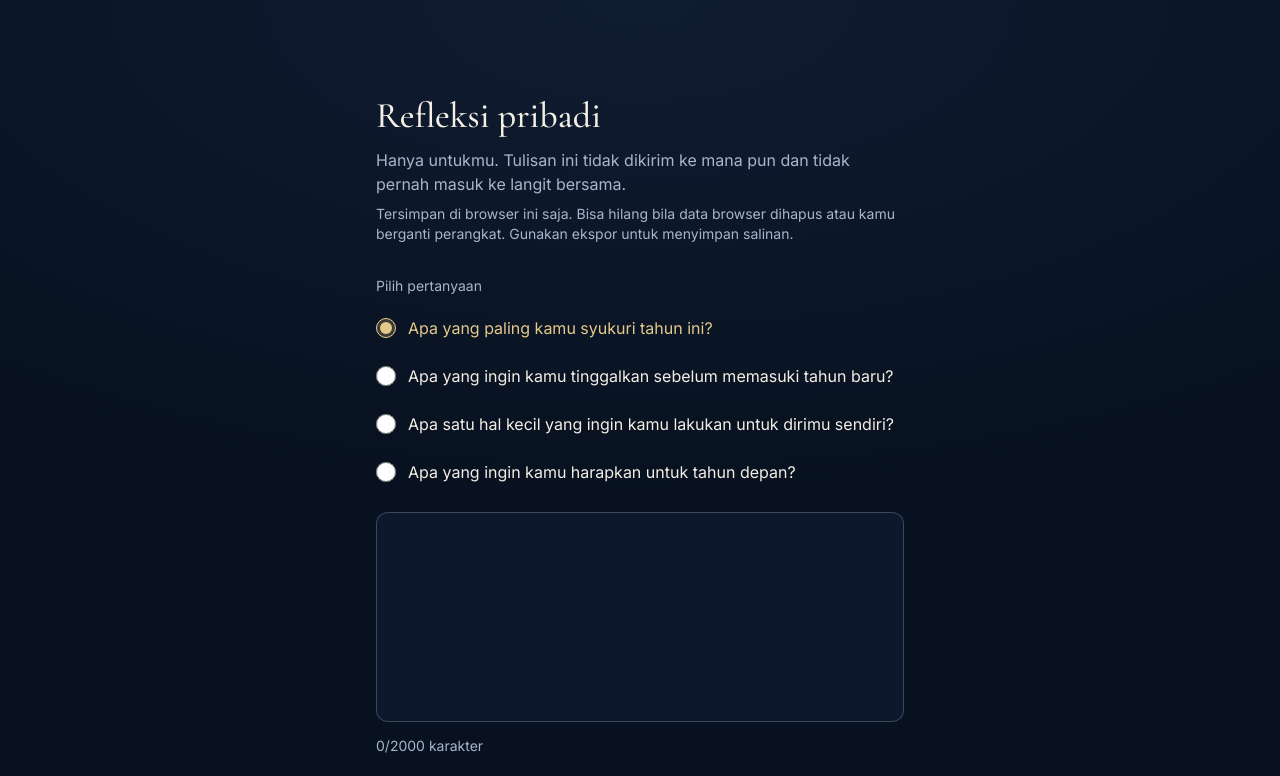
Scenario: ReflectionPad › menghapus tulisan
The image size is (1280, 776).
Type "Tulisan yang nanti akan dihapus." into the text box named "Tulisan refleksimu" at (640, 617), box [376,512,904,722]
(page scrolled)
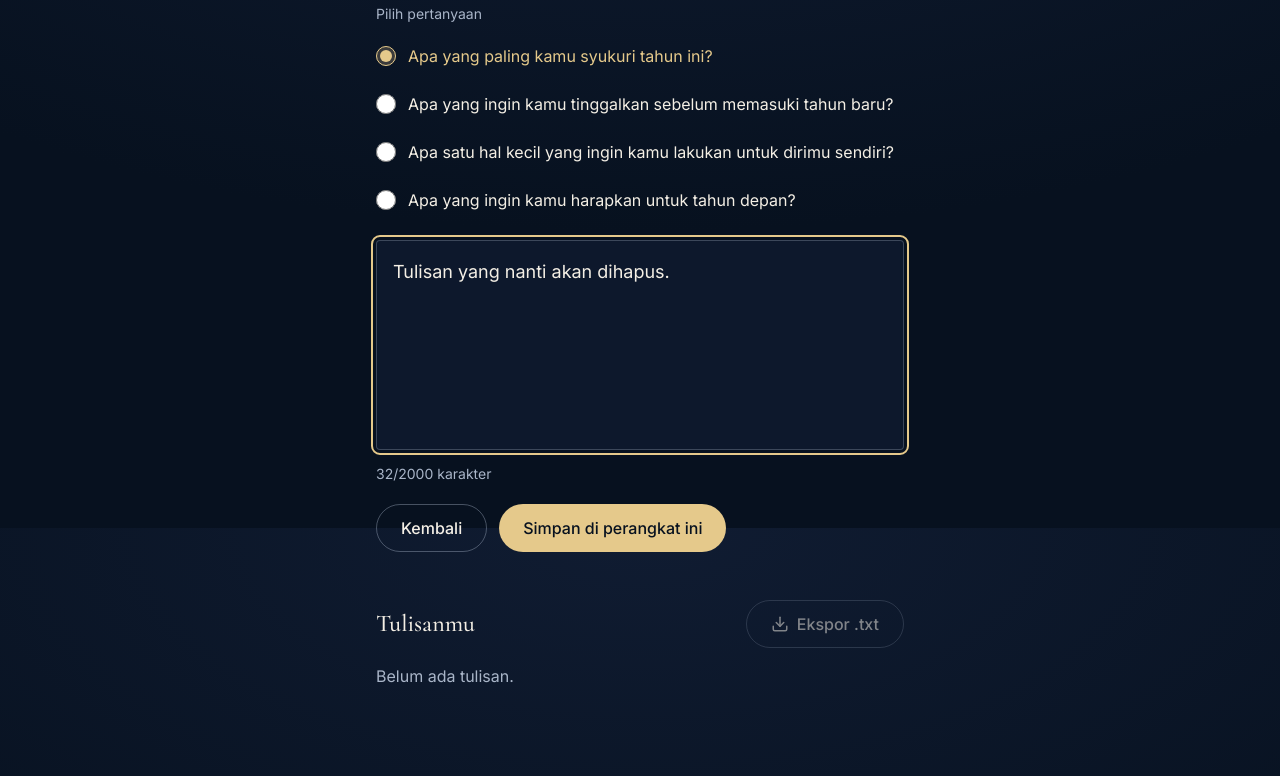
Click the button "Simpan di perangkat ini" at (613, 528), box [499,504,726,552]
(page scrolled)
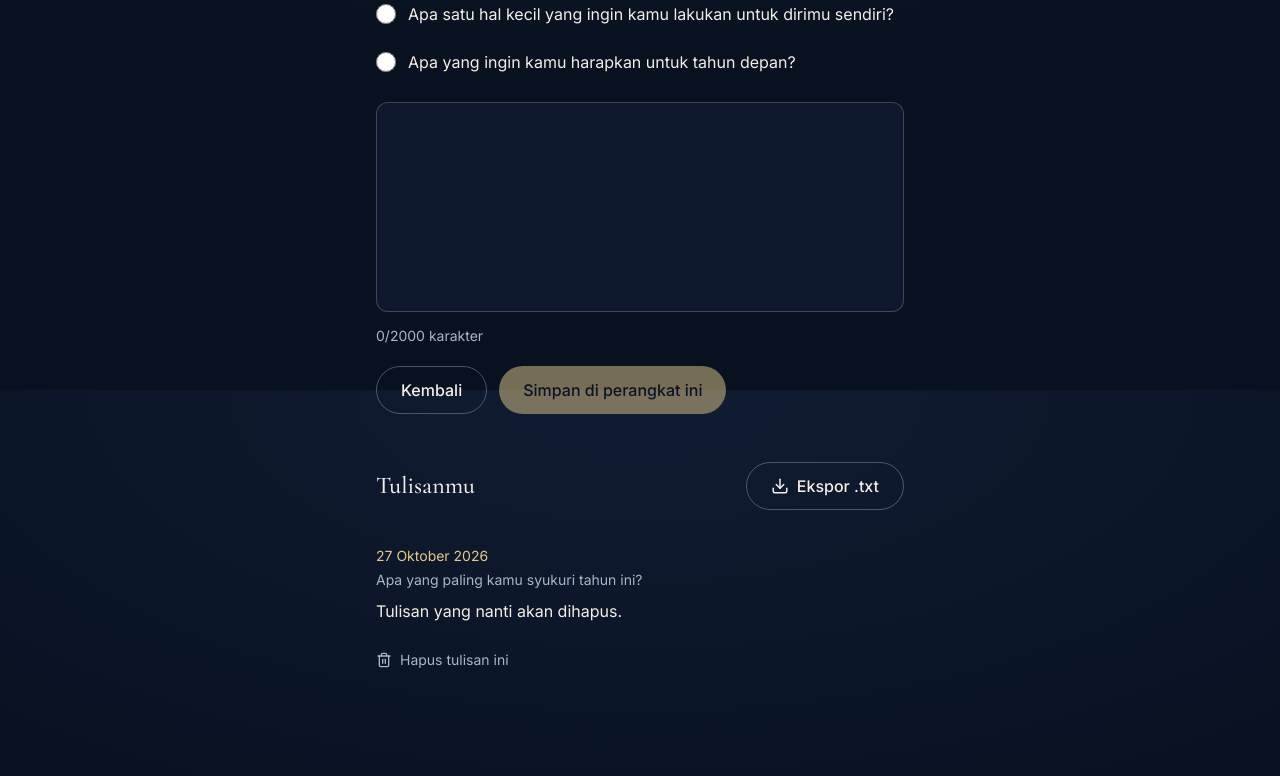
Click the button "Hapus tulisan ini" at (442, 660), box [376,636,509,684]
(page scrolled)
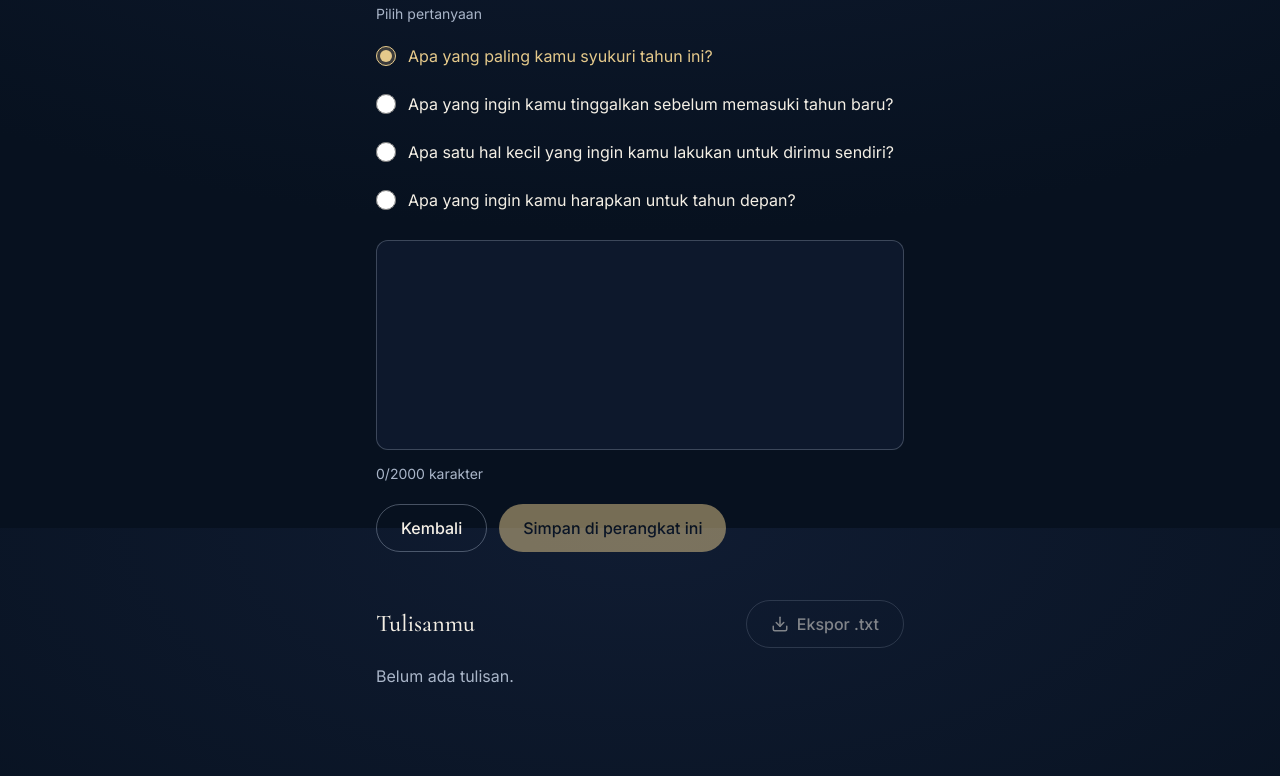
expect the text "Belum ada tulisan." is shown: met, box [376,666,514,686]
